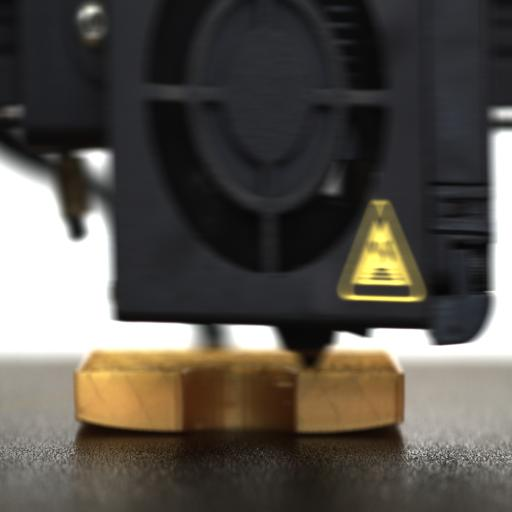warp: (295, 413, 411, 438), (73, 411, 181, 431)
